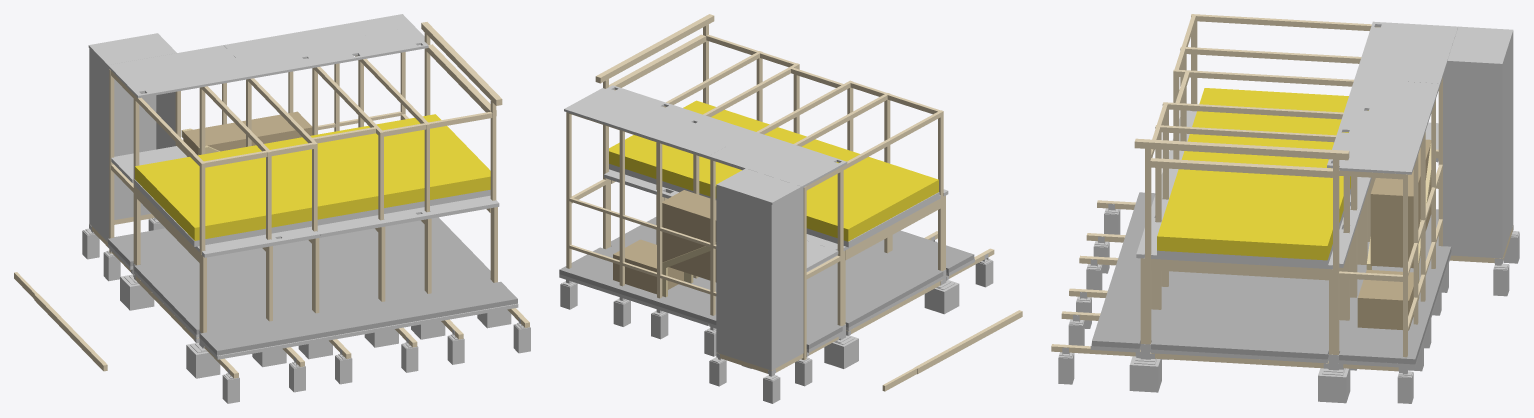
3 views of the same model, side by side, from view 1: azimuth 30°, elevation 25°; view 2: azimuth 150°, elevation 25°; view 3: azimuth 270°, elevation 25° (orthographic). The views are drawn at different scales.
Visible parts, largest first — view 1: 32QymYmIHDHB$pbenIP_6y, 1RhDSTCKrBqhQDyzDFQJnC, 0kW4jEy5z0l9RuRDd$E0AD, 0qyPxJwXn15BD2SpZSznLL, 0kW4jEy5z0l9RuRDd$E1uc, 3YjOqf21bE1ep4Vk$5U29$, 0qyPxJwXn15BD2SpZSzn6e, 31NMCc3cr3CwN4DhYS3q$R, 1l6LtXnLX8GA30rBB42uMW, 1l6LtXnLX8GA30rBB42uQG, 1l6LtXnLX8GA30rBB42uTM, 2h1deUDRj32f136St_pzaD (+24 smaller); view 2: 0qyPxJwXn15BD2SpZSznLL, 32QymYmIHDHB$pbenIP_6y, 1RhDSTCKrBqhQDyzDFQJnC, 0kW4jEy5z0l9RuRDd$E0AD, 3YjOqf21bE1ep4Vk$5U29$, 2UbyBwA8r8cgy4Wd7_OqwI, 0kW4jEy5z0l9RuRDd$E1uc, 3nZyg3JZPC486d7JF97yh3, 2h1deUDRj32f136St_pzXX, 1l6LtXnLX8GA30rBB42uMW, 0CmZogcWf1LxBvY0POD3G7, 1RXf75AmX5vBW6G7WGEN86 (+25 smaller); view 3: 32QymYmIHDHB$pbenIP_6y, 1RhDSTCKrBqhQDyzDFQJnC, 0kW4jEy5z0l9RuRDd$E0AD, 0qyPxJwXn15BD2SpZSznLL, 3YjOqf21bE1ep4Vk$5U29$, 0kW4jEy5z0l9RuRDd$E1uc, 2UbyBwA8r8cgy4Wd7_OqwI, 3nZyg3JZPC486d7JF97yh3, 2Eh3jw1vP8Yf4jgVHS_U5d, 1c2gmrZpf7qQ13R$ulC1Jf, 31NMCc3cr3CwN4DhYS3q$R, 31NMCc3cr3CwN4DhYS3q$5 (+28 smaller).
Boxes of the visible parts, x1,y1,x2,y2 form: 32QymYmIHDHB$pbenIP_6y: [108, 217, 517, 355]; 1RhDSTCKrBqhQDyzDFQJnC: [135, 114, 490, 240]; 0kW4jEy5z0l9RuRDd$E0AD: [88, 14, 428, 98]; 0qyPxJwXn15BD2SpZSznLL: [89, 48, 175, 241]; 0kW4jEy5z0l9RuRDd$E1uc: [111, 146, 499, 257]; 3YjOqf21bE1ep4Vk$5U29$: [183, 111, 312, 155]; 0qyPxJwXn15BD2SpZSzn6e: [200, 303, 518, 359]; 31NMCc3cr3CwN4DhYS3q$R: [490, 100, 497, 282]; 1l6LtXnLX8GA30rBB42uMW: [199, 161, 206, 332]; 1l6LtXnLX8GA30rBB42uQG: [378, 130, 385, 301]; 1l6LtXnLX8GA30rBB42uTM: [424, 122, 431, 293]; 2h1deUDRj32f136St_pzaD: [312, 142, 319, 313]; 0qyPxJwXn15BD2SpZSznLL: [716, 187, 803, 370]; 32QymYmIHDHB$pbenIP_6y: [559, 217, 974, 349]; 1RhDSTCKrBqhQDyzDFQJnC: [609, 100, 938, 241]; 0kW4jEy5z0l9RuRDd$E0AD: [564, 85, 847, 204]; 3YjOqf21bE1ep4Vk$5U29$: [662, 190, 716, 282]; 2UbyBwA8r8cgy4Wd7_OqwI: [613, 239, 683, 294]; 0kW4jEy5z0l9RuRDd$E1uc: [604, 169, 948, 271]; 3nZyg3JZPC486d7JF97yh3: [595, 14, 714, 83]; 2h1deUDRj32f136St_pzXX: [837, 166, 845, 326]; 1l6LtXnLX8GA30rBB42uMW: [938, 110, 945, 271]; 0CmZogcWf1LxBvY0POD3G7: [845, 198, 940, 259]; 1RXf75AmX5vBW6G7WGEN86: [914, 310, 1022, 374]; 32QymYmIHDHB$pbenIP_6y: [1092, 192, 1451, 364]; 1RhDSTCKrBqhQDyzDFQJnC: [1157, 88, 1368, 260]; 0kW4jEy5z0l9RuRDd$E0AD: [1327, 21, 1513, 174]; 0qyPxJwXn15BD2SpZSznLL: [1443, 33, 1513, 258]; 3YjOqf21bE1ep4Vk$5U29$: [1370, 139, 1431, 268]; 0kW4jEy5z0l9RuRDd$E1uc: [1136, 110, 1438, 269]; 2UbyBwA8r8cgy4Wd7_OqwI: [1357, 270, 1413, 330]; 3nZyg3JZPC486d7JF97yh3: [1134, 138, 1349, 160]; 2Eh3jw1vP8Yf4jgVHS_U5d: [1151, 259, 1328, 280]; 1c2gmrZpf7qQ13R$ulC1Jf: [1150, 158, 1332, 177]; 31NMCc3cr3CwN4DhYS3q$R: [1140, 148, 1151, 344]; 31NMCc3cr3CwN4DhYS3q$5: [1329, 159, 1339, 354].
Size of the model in its own units: 13.95 by 7.56 by 13.08.
